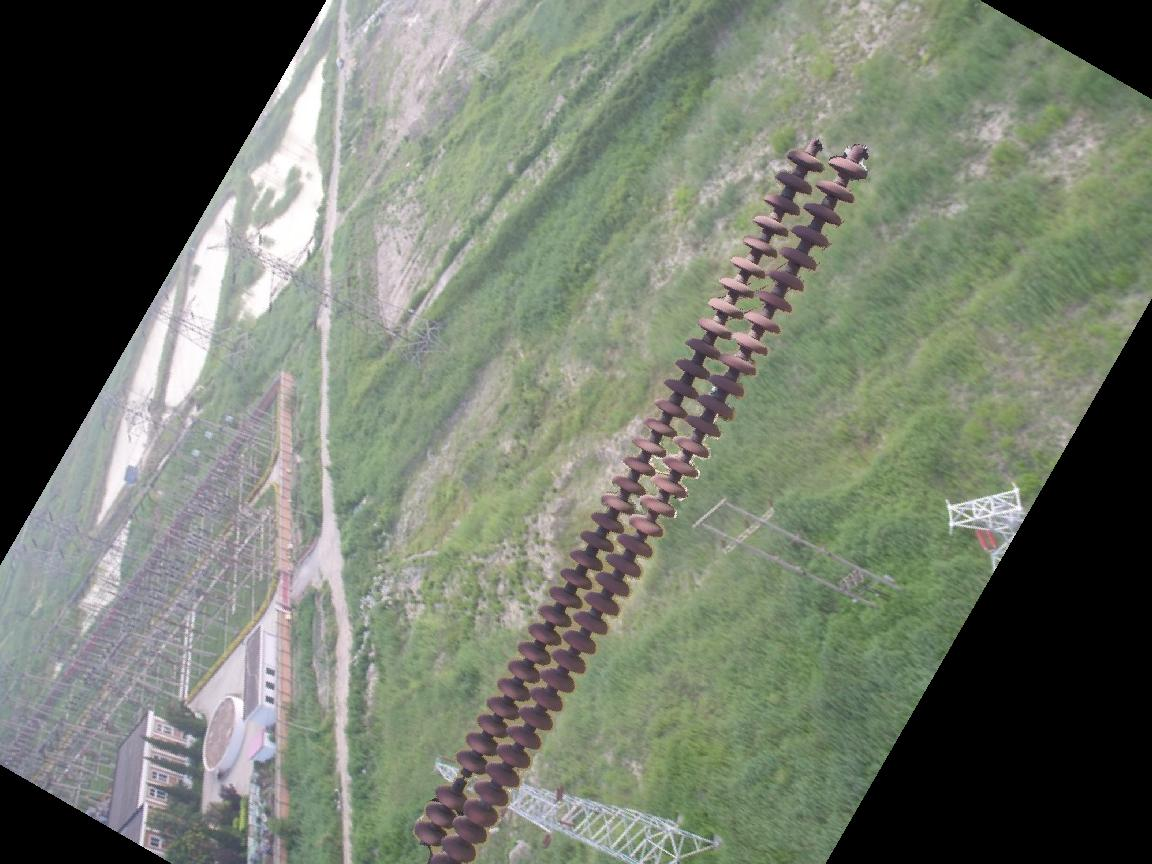insulator: (405, 138, 872, 864)
insulator_stringdrop: (433, 748, 489, 816)
